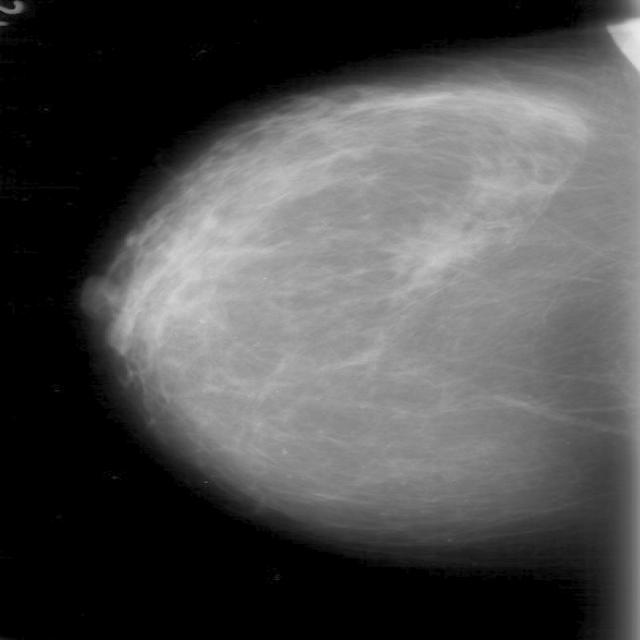tumour: (391, 208, 492, 286)
